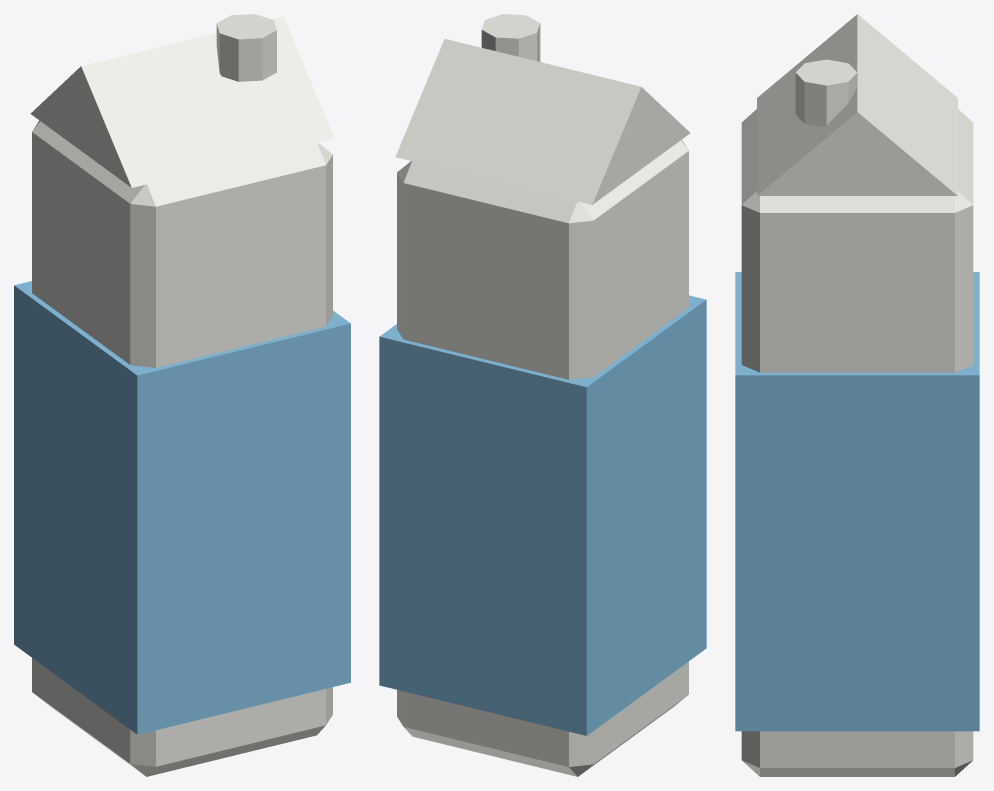
The model's file is milk.glb.
The picture shows the model from 3 angles, left to right: view 1: azimuth 30°, elevation 25°; view 2: azimuth 150°, elevation 25°; view 3: azimuth 270°, elevation 25°; orthographic projection. The views are drawn at different scales.
Visible parts, largest first — view 1: milk; view 2: milk; view 3: milk.
Part boxes in pixels (x1,y1,x2,y2): milk: (14,14,350,776); milk: (379,14,706,776); milk: (735,14,979,776).
Size of the model in its own units: 0.079 by 0.245 by 0.079.
Materials: 1 (1 with a texture image).
